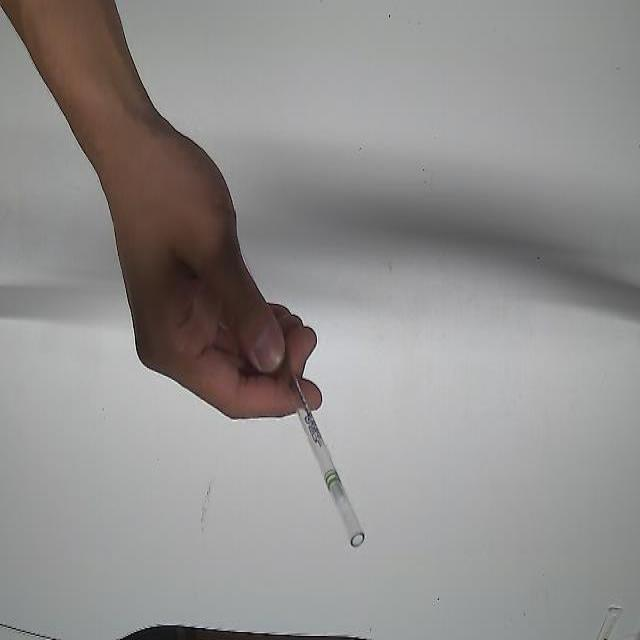Serelogical Pipet 2 mL: (259, 320, 367, 552)
